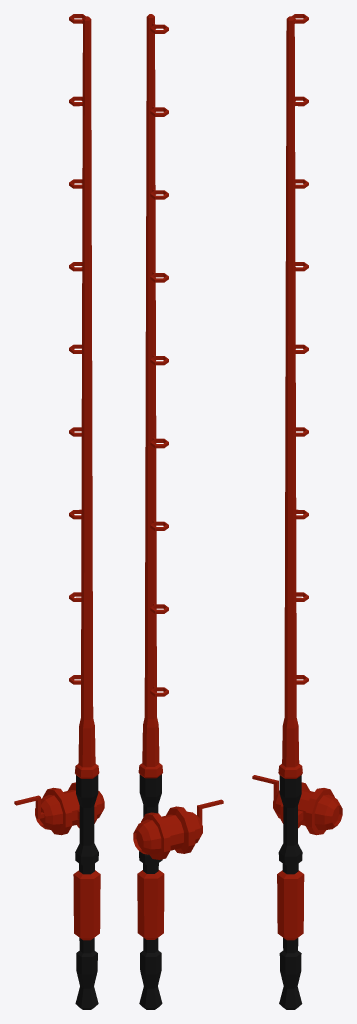
File: fishing_rod_lvl5.glb
The picture shows the model from 3 angles, left to right: view 1: azimuth 30°, elevation 25°; view 2: azimuth 210°, elevation 25°; view 3: azimuth 330°, elevation 25°; orthographic projection.
Parts seen in each view (by area): view 1: FishingRod_Lvl5; view 2: FishingRod_Lvl5; view 3: FishingRod_Lvl5.
Part boxes in pixels (<box>): FishingRod_Lvl5: <box>14,14,104,1009</box>; FishingRod_Lvl5: <box>133,14,223,1009</box>; FishingRod_Lvl5: <box>252,14,342,1009</box>.
Bounding box in the file's own units: 0.1646 × 1.85 × 0.12.
